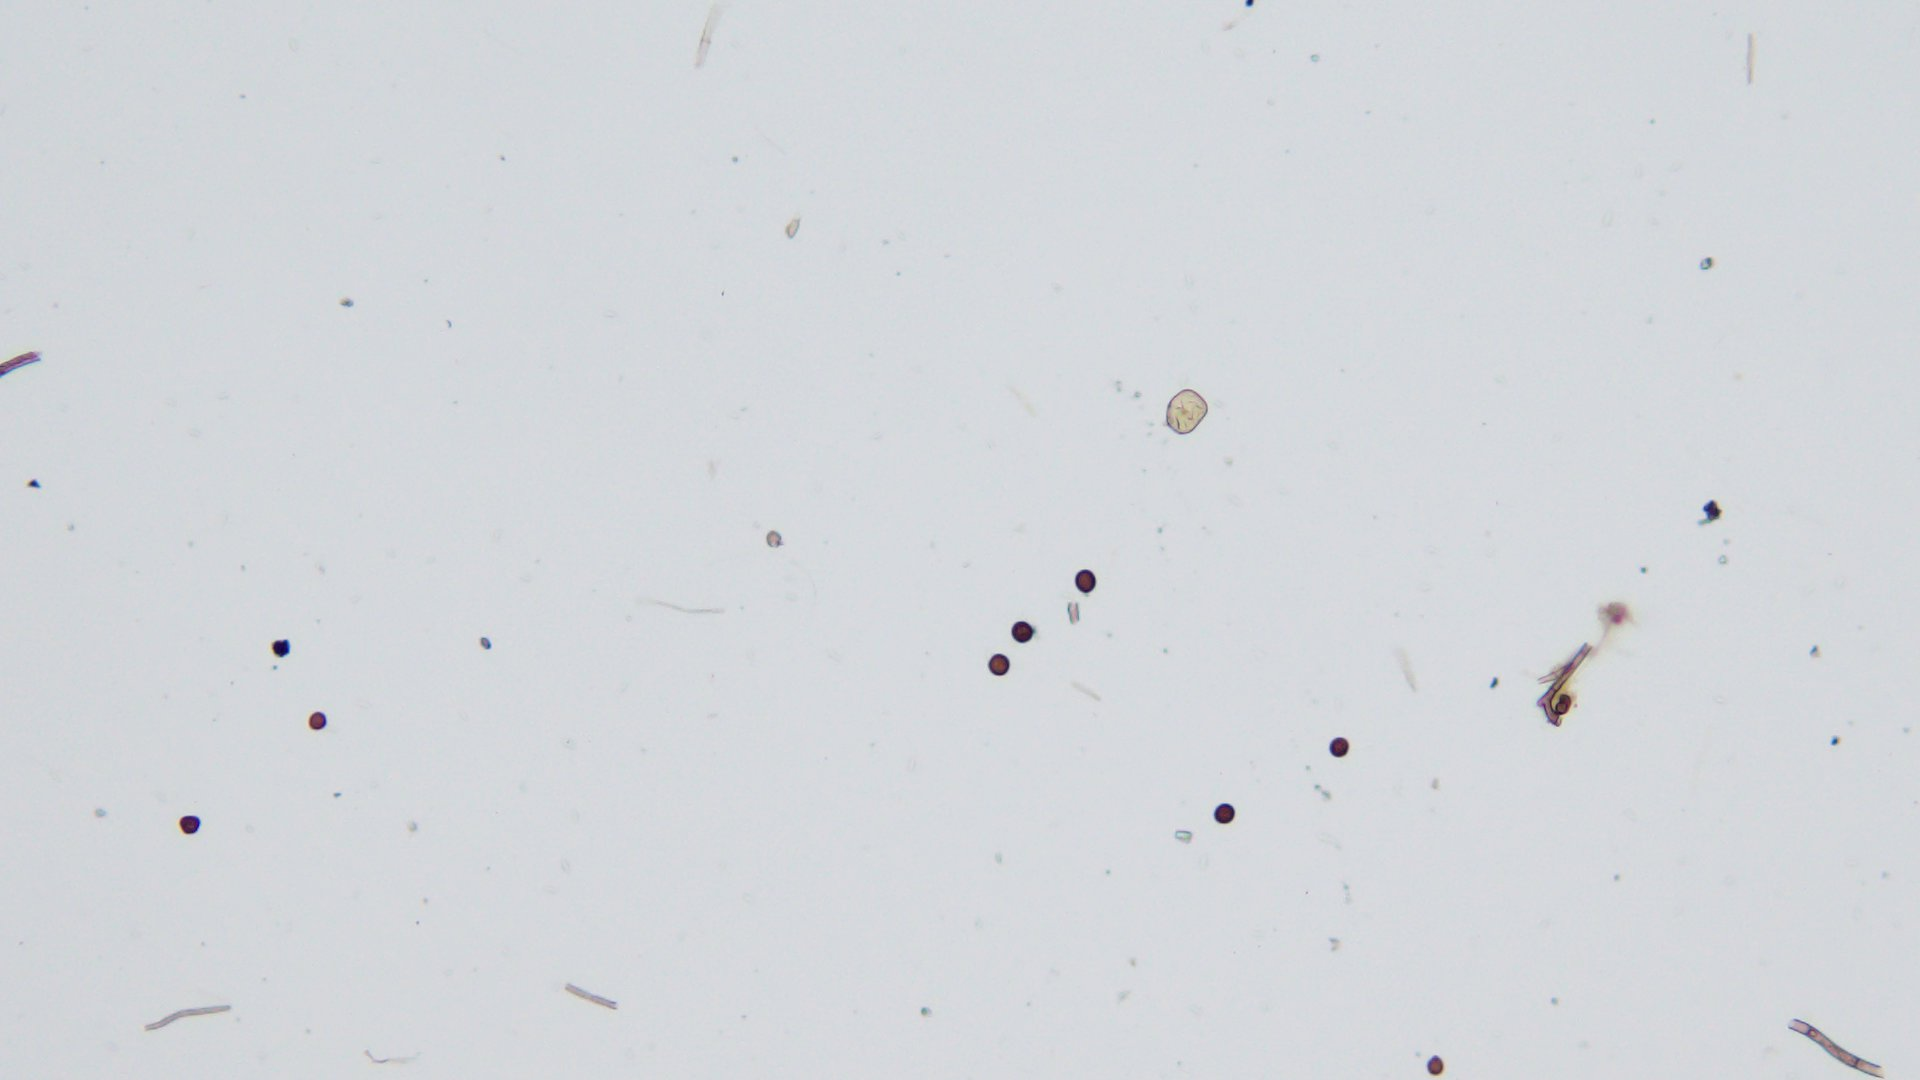shs_spore: (986, 653, 1010, 676), (1212, 802, 1236, 825), (1327, 736, 1350, 758), (1075, 570, 1096, 593), (1011, 621, 1033, 644), (179, 815, 202, 835), (1425, 1055, 1445, 1075), (309, 712, 328, 731)
xb_spore: (1163, 388, 1208, 435)
